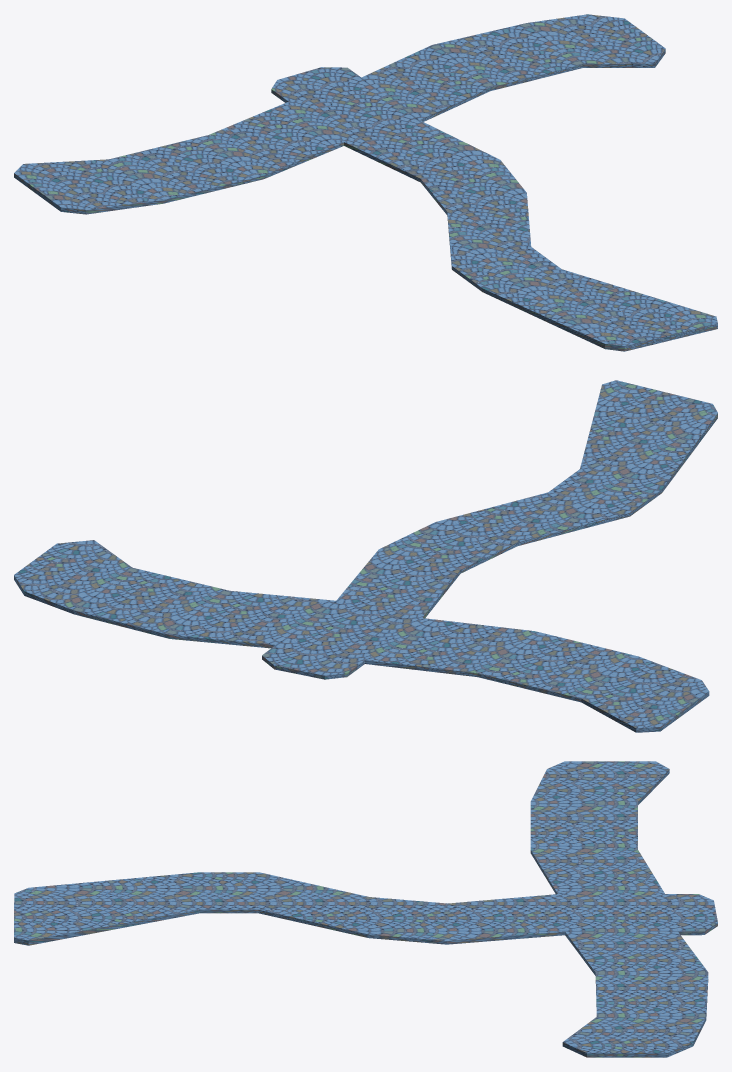
The model's file is caminoNuevo3.fbx.
3 views of the same model, one above another, from view 1: azimuth 30°, elevation 25°; view 2: azimuth 150°, elevation 25°; view 3: azimuth 270°, elevation 25° (orthographic). The views are drawn at different scales.
Visible parts, largest first — view 1: Cube; view 2: Cube; view 3: Cube.
Boxes of the visible parts, left/top/right/bottom form: Cube: left=14, top=14, right=717, bottom=351; Cube: left=14, top=380, right=717, bottom=732; Cube: left=14, top=761, right=717, bottom=1057.
Size of the model in its own units: 1557 by 13.34 by 1587.
Materials: 1 (1 with a texture image).
